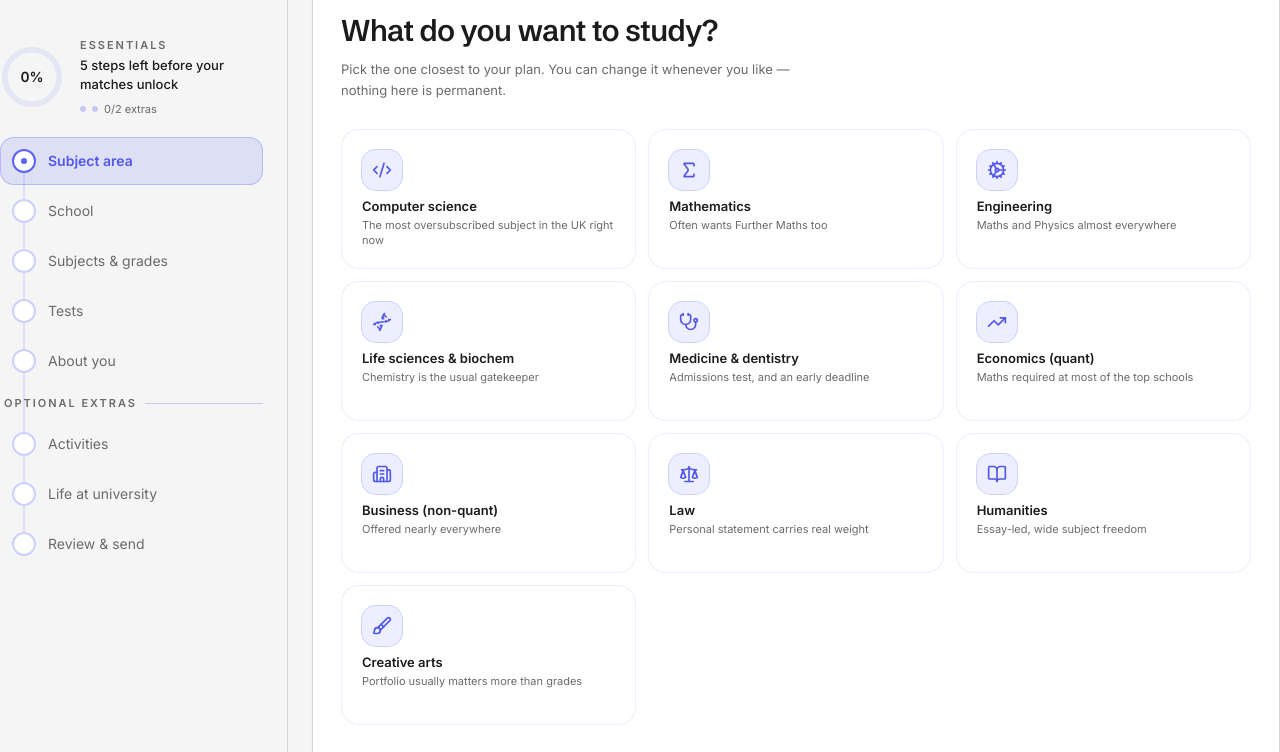
Test: step navigation › advances on a valid subject area and PUSHES the screen key onto the URL
Step 1. Click the radio button labelled "Economics (quant) Maths required at most of the top schools" → (997, 322), box [956,281,1251,421]
(page scrolled)
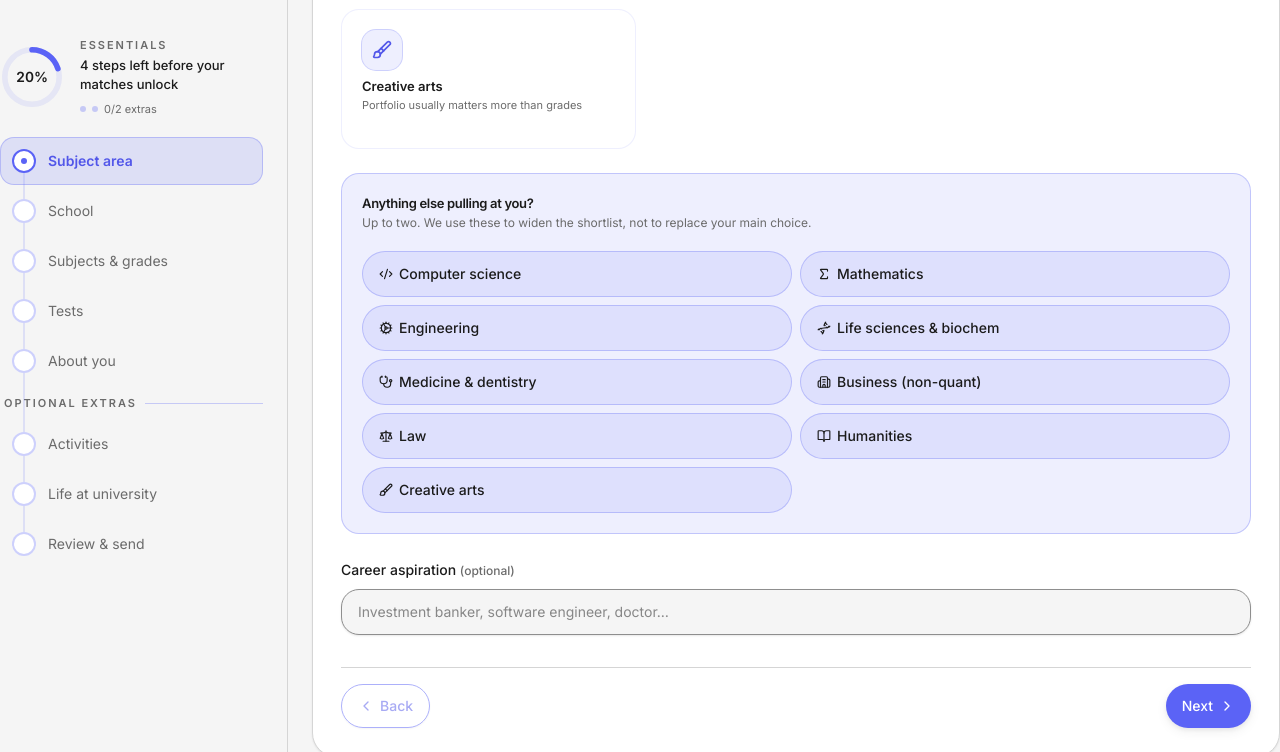
Step 2. Click the button "Next" → (1208, 706), box [1166,684,1251,728]
(page scrolled)
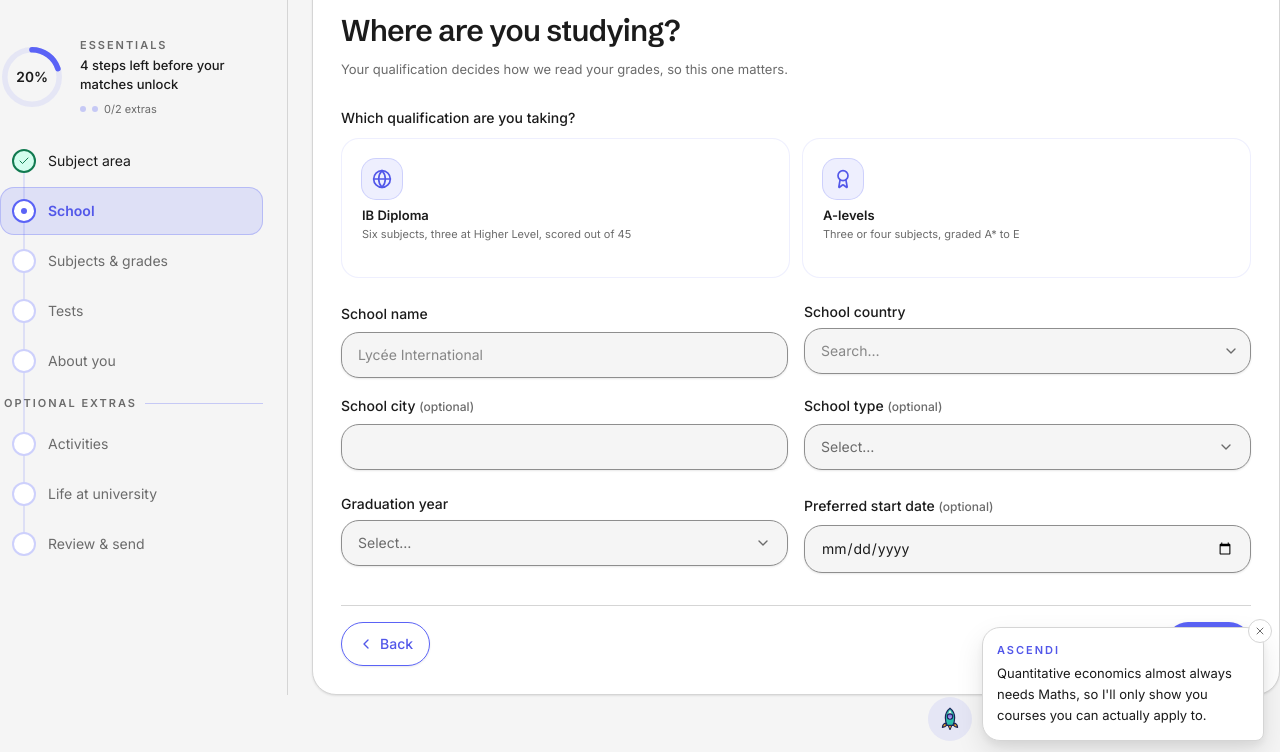
Result: the heading "Where are you studying?" is shown at [341,12,680,48]
